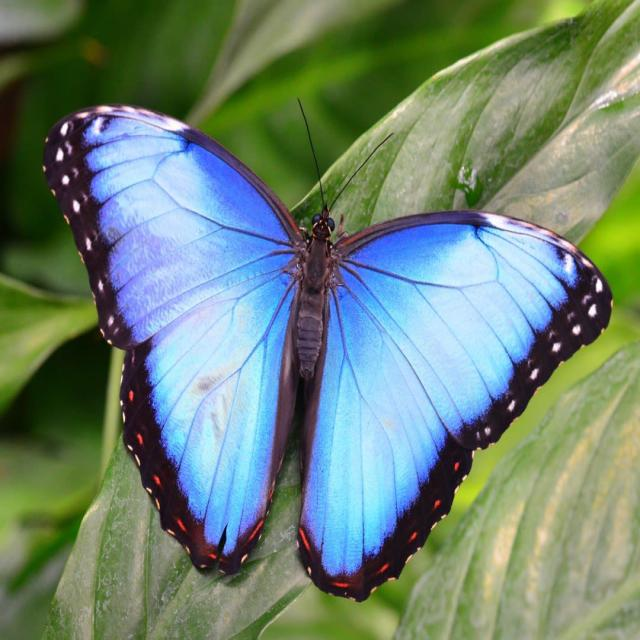butterfly: (59, 94, 582, 587)
